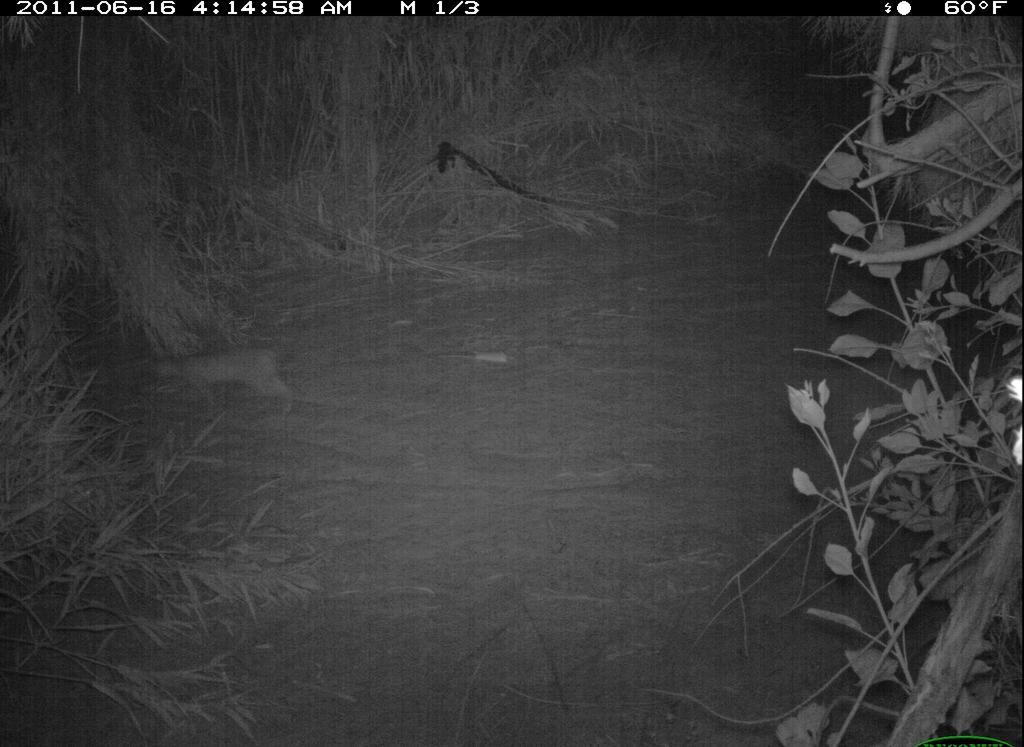bobcat: (143, 342, 297, 417)
